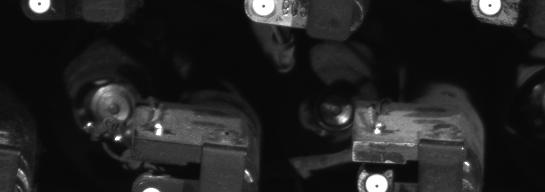fiber: (358, 171, 391, 192), (245, 1, 281, 19), (26, 1, 63, 18), (476, 1, 510, 18)
